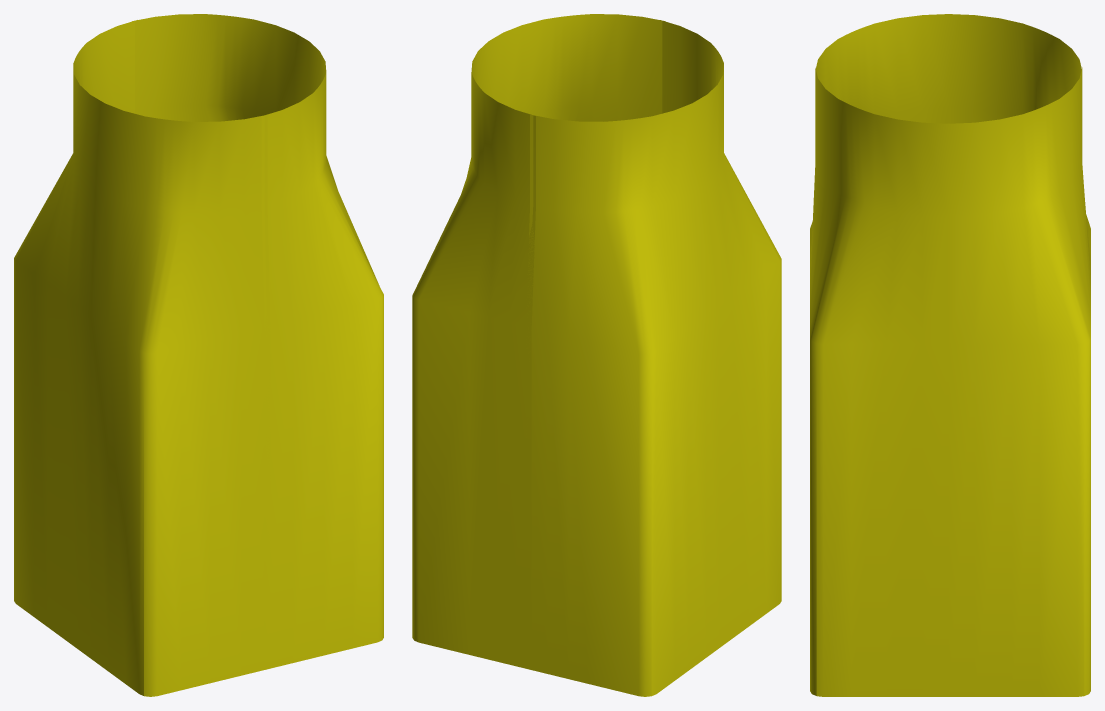
The model's file is CraneColumn.glb.
3 renders of one model, left to right at view 1: azimuth 30°, elevation 25°; view 2: azimuth 150°, elevation 25°; view 3: azimuth 270°, elevation 25°, orthographic. The views are drawn at different scales.
Visible parts, largest first — view 1: CraneColumn; view 2: CraneColumn; view 3: CraneColumn.
Boxes of the visible parts, <box> form: CraneColumn: <box>14,14,383,696</box>; CraneColumn: <box>412,14,781,696</box>; CraneColumn: <box>810,14,1090,696</box>.
Size of the model in its own units: 2.81 by 6.1 by 2.74.
